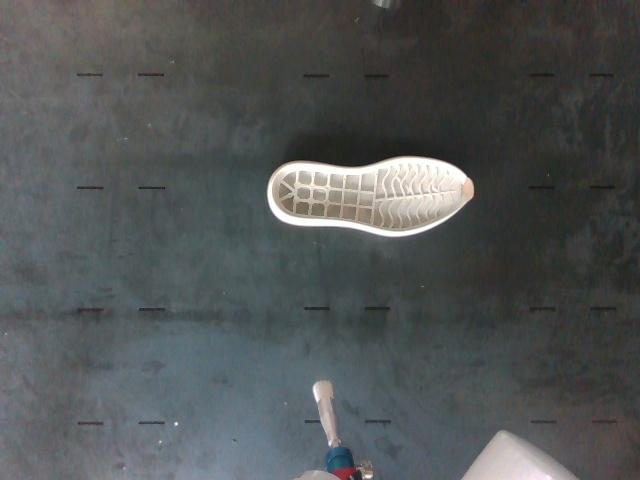shoes: (272, 159, 472, 231)
